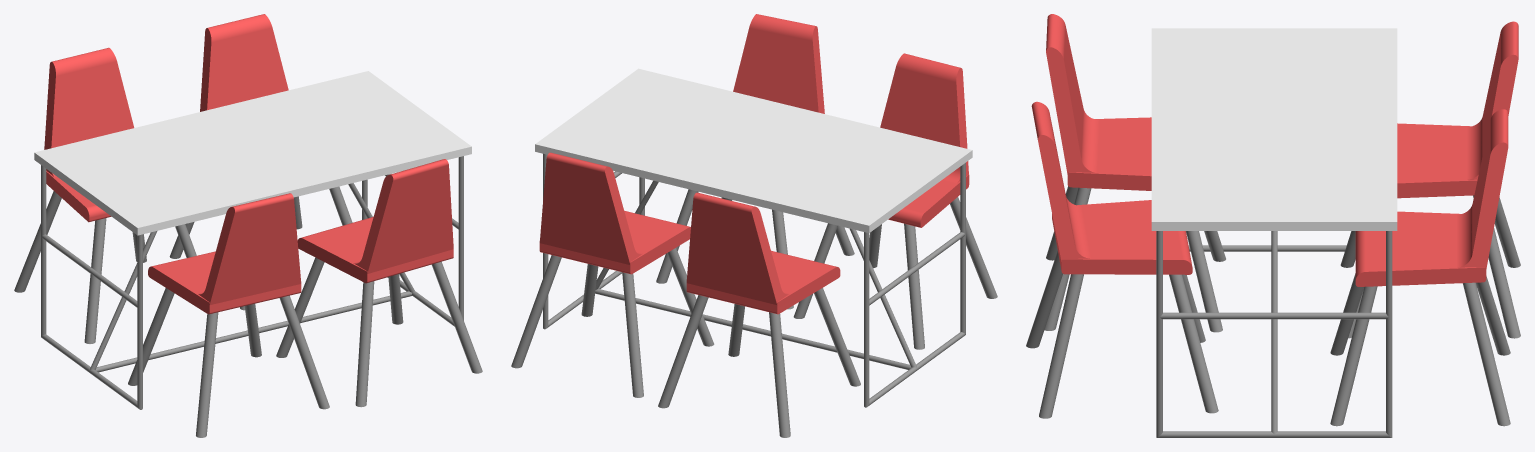
The model's file is 006_ダイニングテーブルセット.glb.
3 views of the same model, side by side, from view 1: azimuth 30°, elevation 25°; view 2: azimuth 150°, elevation 25°; view 3: azimuth 270°, elevation 25° (orthographic). The views are drawn at different scales.
Parts seen in each view (by area): view 1: テーブル, 椅子1, 椅子2, 椅子3, 椅子4; view 2: テーブル, 椅子3, 椅子4, 椅子1, 椅子2; view 3: テーブル, 椅子4, 椅子2, 椅子1, 椅子3.
Part boxes in pixels (<box>): テーブル: <box>34,71,471,409</box>; 椅子1: <box>128,193,329,437</box>; 椅子2: <box>276,159,482,407</box>; 椅子3: <box>14,47,196,343</box>; 椅子4: <box>169,14,352,310</box>; テーブル: <box>535,68,972,407</box>; 椅子3: <box>658,192,860,437</box>; 椅子4: <box>511,152,714,397</box>; 椅子1: <box>793,53,997,349</box>; 椅子2: <box>656,14,854,309</box>; テーブル: <box>1151,28,1397,437</box>; 椅子4: <box>1330,109,1510,426</box>; 椅子2: <box>1026,101,1218,418</box>; 椅子1: <box>1044,14,1225,332</box>; 椅子3: <box>1340,21,1520,338</box>.
Size of the model in its own units: 1.4 by 0.8934 by 1.51.
